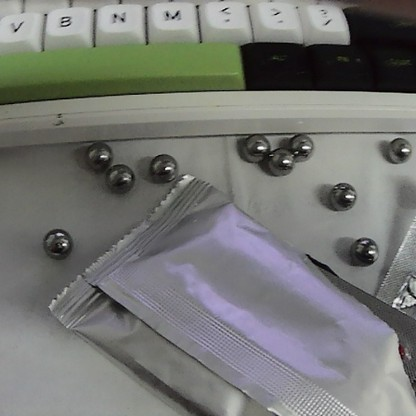ironball: (369, 132, 414, 172), (319, 173, 360, 213), (36, 220, 78, 258), (79, 135, 120, 169), (143, 146, 180, 183), (343, 225, 380, 262), (233, 127, 270, 163), (282, 125, 317, 160), (105, 162, 139, 196), (263, 147, 293, 170)
